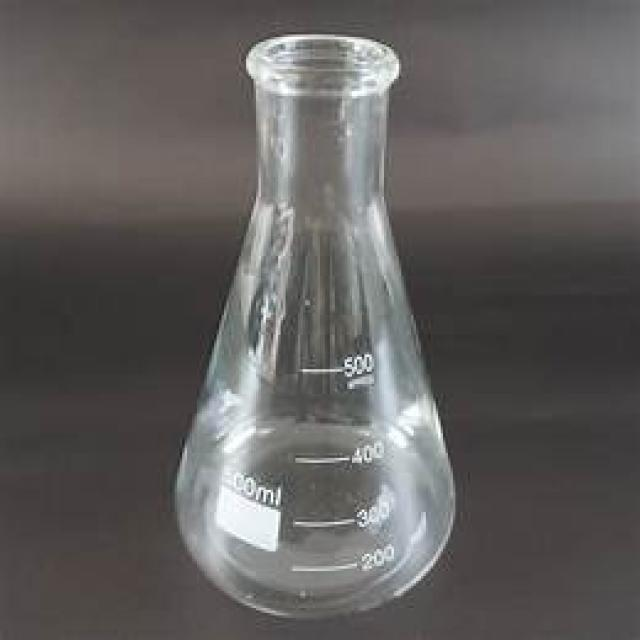Titrarion: (150, 42, 462, 621)
